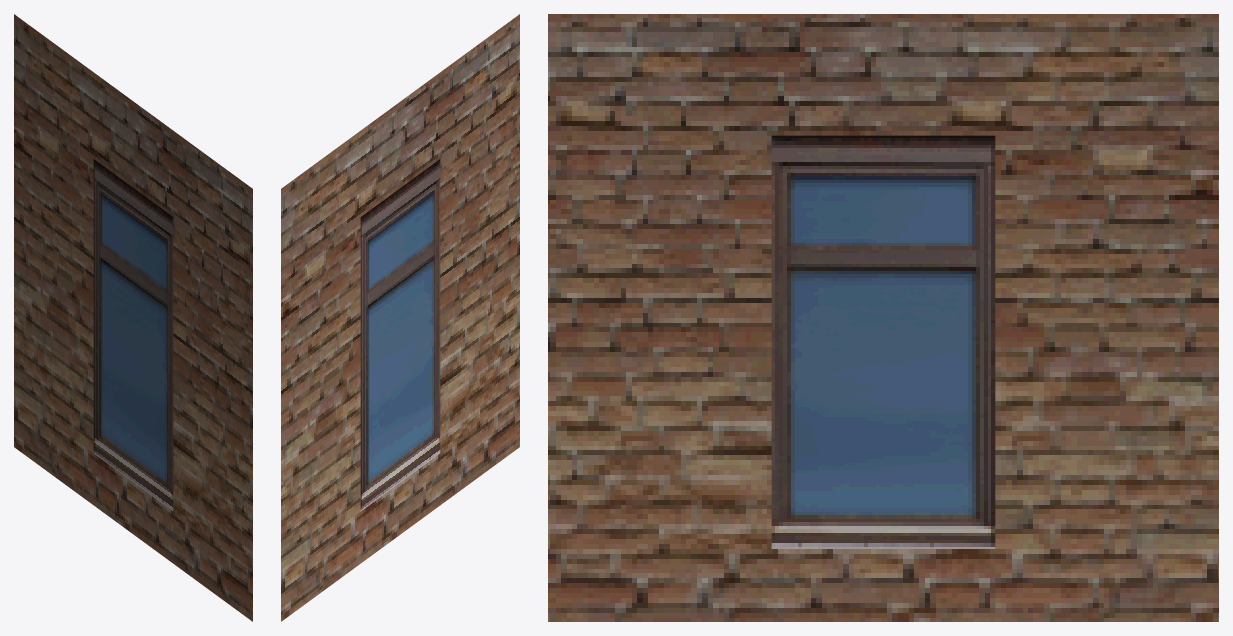
File: brick_wall_window_2.glb
3 views of the same model, side by side, from view 1: azimuth 30°, elevation 25°; view 2: azimuth 150°, elevation 25°; view 3: azimuth 270°, elevation 25° (orthographic). The views are drawn at different scales.
Parts seen in each view (by area): view 1: brick_wall_window_2; view 2: brick_wall_window_2; view 3: brick_wall_window_2.
Boxes of the visible parts, left/top/right/bottom form: brick_wall_window_2: left=14, top=14, right=252, bottom=621; brick_wall_window_2: left=281, top=14, right=519, bottom=621; brick_wall_window_2: left=548, top=14, right=1218, bottom=621.
Bounding box in the file's own units: 0 × 3 × 3.
Materials: 1 (1 with a texture image).
